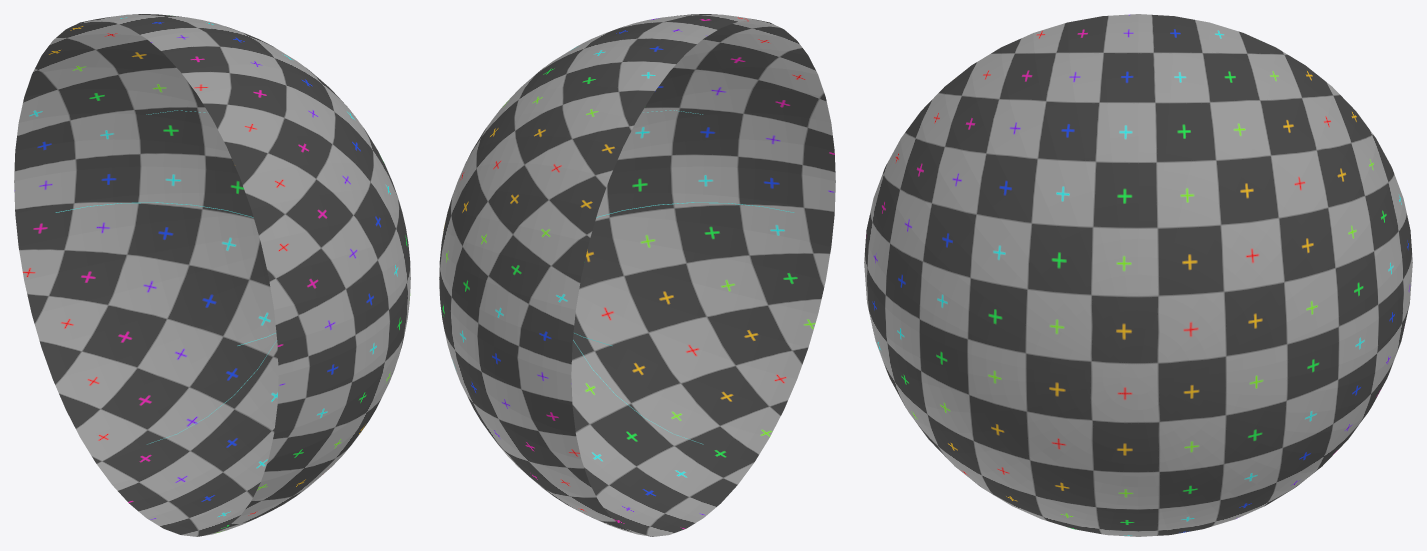
Rendered from projector.glb.
The picture shows the model from 3 angles, left to right: view 1: azimuth 30°, elevation 25°; view 2: azimuth 150°, elevation 25°; view 3: azimuth 270°, elevation 25°; orthographic projection. The views are drawn at different scales.
Visible parts, largest first — view 1: Mapping; view 2: Mapping; view 3: Mapping.
Part boxes in pixels (box(x1,y1,x2,y2)): Mapping: box(14, 14, 410, 536); Mapping: box(439, 14, 835, 536); Mapping: box(864, 14, 1412, 536).
Size of the model in its own units: 10 by 20 by 20.
Materials: 2 (1 with a texture image).
